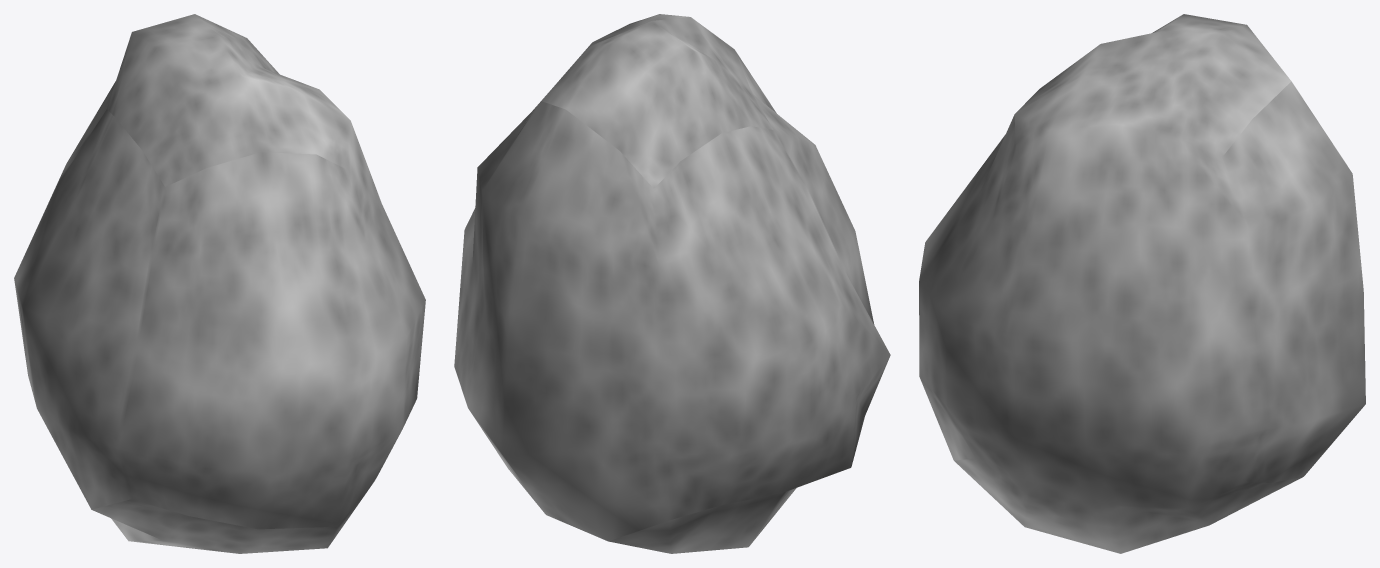
File: rock2.glb
The picture shows the model from 3 angles, left to right: view 1: azimuth 30°, elevation 25°; view 2: azimuth 150°, elevation 25°; view 3: azimuth 270°, elevation 25°; orthographic projection. The views are drawn at different scales.
Visible parts, largest first — view 1: Rock.002; view 2: Rock.002; view 3: Rock.002.
Part boxes in pixels (x1,y1,x2,y2): Rock.002: (14,14,425,553); Rock.002: (454,14,890,553); Rock.002: (919,14,1365,553).
Bounding box in the file's own units: 2.78 × 3.9 × 3.13.
Materials: 1 (1 with a texture image).
